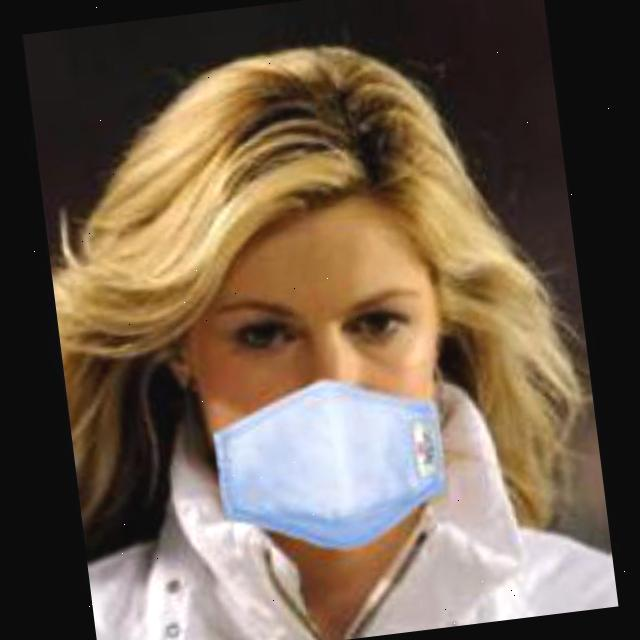suspicion: (172, 158, 478, 565)
